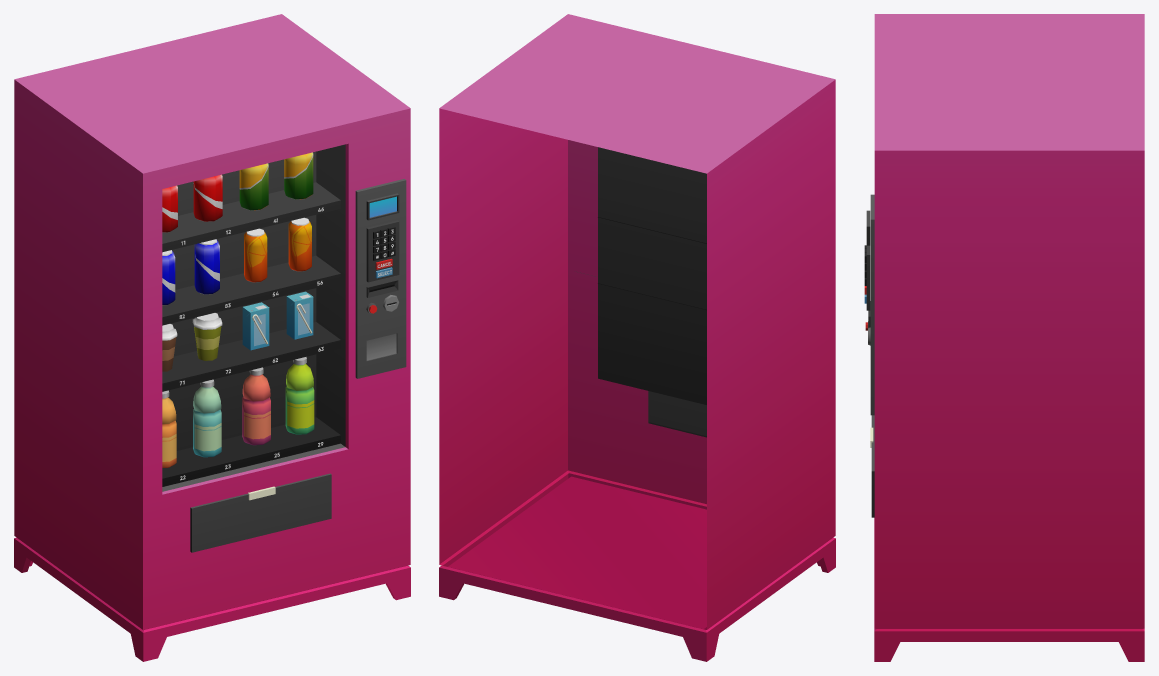
File: CR_Vendingmachine_001.FBX
3 views of the same model, side by side, from view 1: azimuth 30°, elevation 25°; view 2: azimuth 150°, elevation 25°; view 3: azimuth 270°, elevation 25° (orthographic). The views are drawn at different scales.
Visible parts, largest first — view 1: CR_Vendingmachine_001; view 2: CR_Vendingmachine_001; view 3: CR_Vendingmachine_001.
Boxes of the visible parts, x1,y1,x2,y2 form: CR_Vendingmachine_001: (14,14,410,661); CR_Vendingmachine_001: (439,14,835,661); CR_Vendingmachine_001: (864,14,1144,661).
Size of the model in its own units: 76.81 by 134 by 66.58.
1 material, 1 textured.
